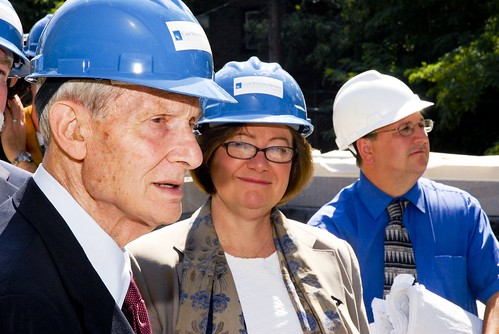person hardhat: (26, 1, 240, 228), (195, 58, 314, 217), (332, 69, 436, 175)
